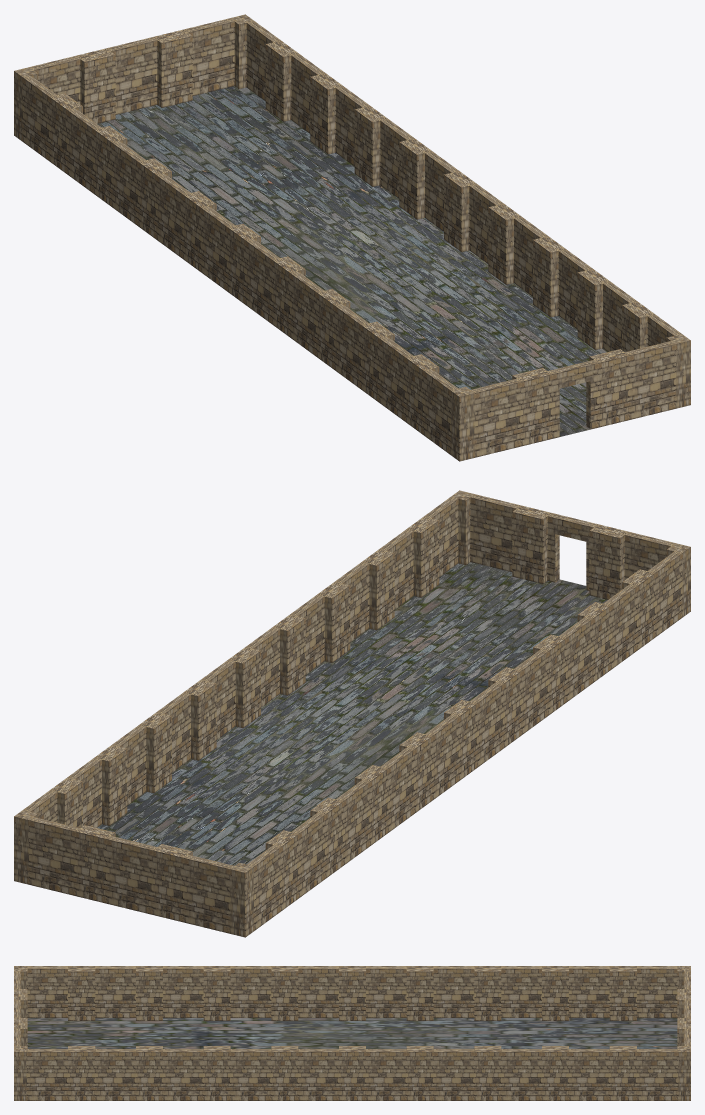
Rendered from 1_deadEndChest.fbx.
3 renders of one model, top to bottom at view 1: azimuth 30°, elevation 25°; view 2: azimuth 150°, elevation 25°; view 3: azimuth 270°, elevation 25°, orthographic. The views are drawn at different scales.
Visible parts, largest first — view 1: Cube_49, Plane; view 2: Cube_49, Plane; view 3: Cube_49, Plane.
Boxes of the visible parts, left/top/right/bottom form: Cube_49: left=14, top=14, right=690, bottom=461; Plane: left=97, top=86, right=607, bottom=436; Cube_49: left=14, top=490, right=690, bottom=937; Plane: left=97, top=562, right=607, bottom=865; Cube_49: left=14, top=966, right=690, bottom=1100; Plane: left=27, top=1018, right=677, bottom=1048.
Bounding box in the file's own units: 30 × 8 × 100.
2 materials, 2 textured.
